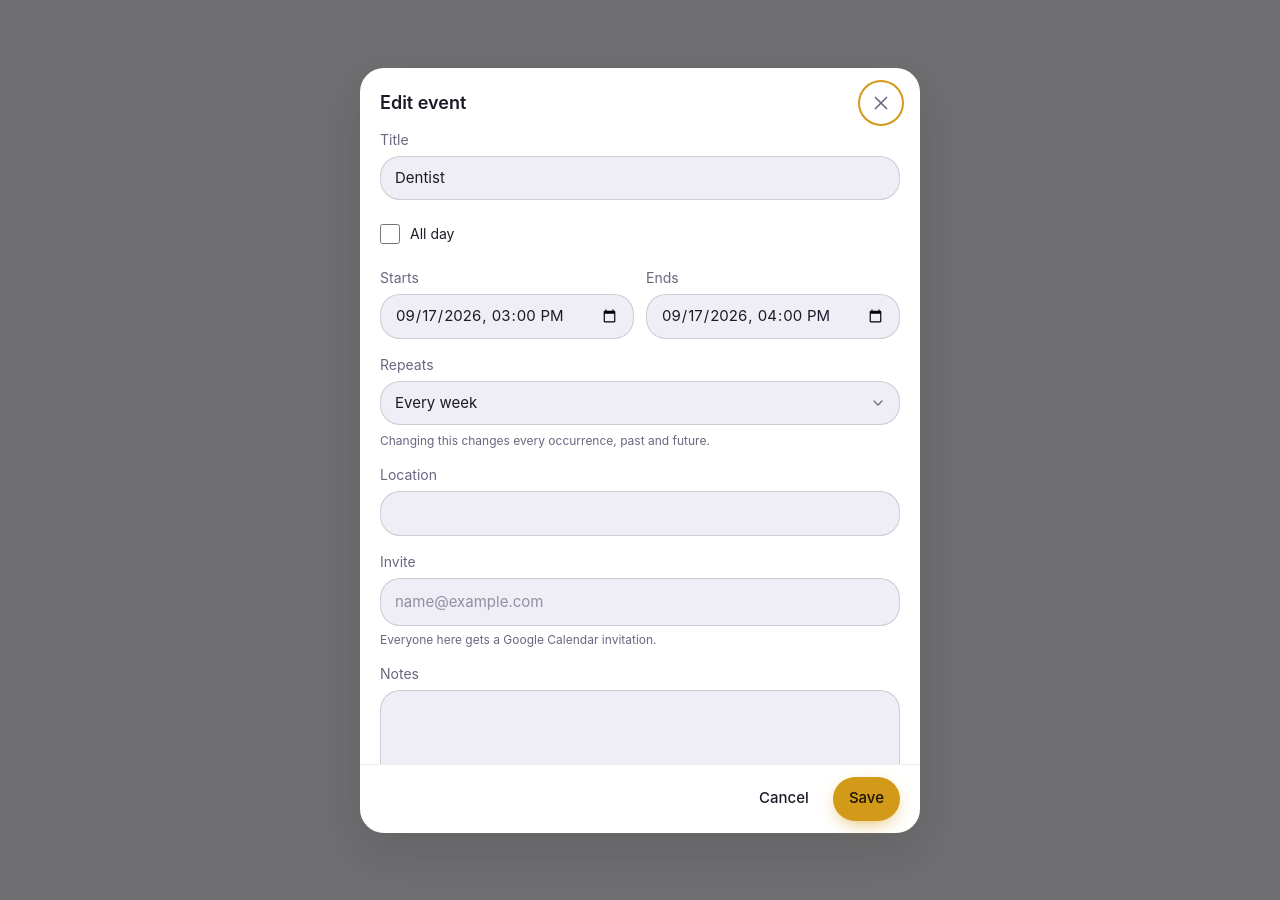
Scenario: a repeating event › goes back to the form without saving
Click the button "Save" at (866, 798), box [833, 776, 900, 820]
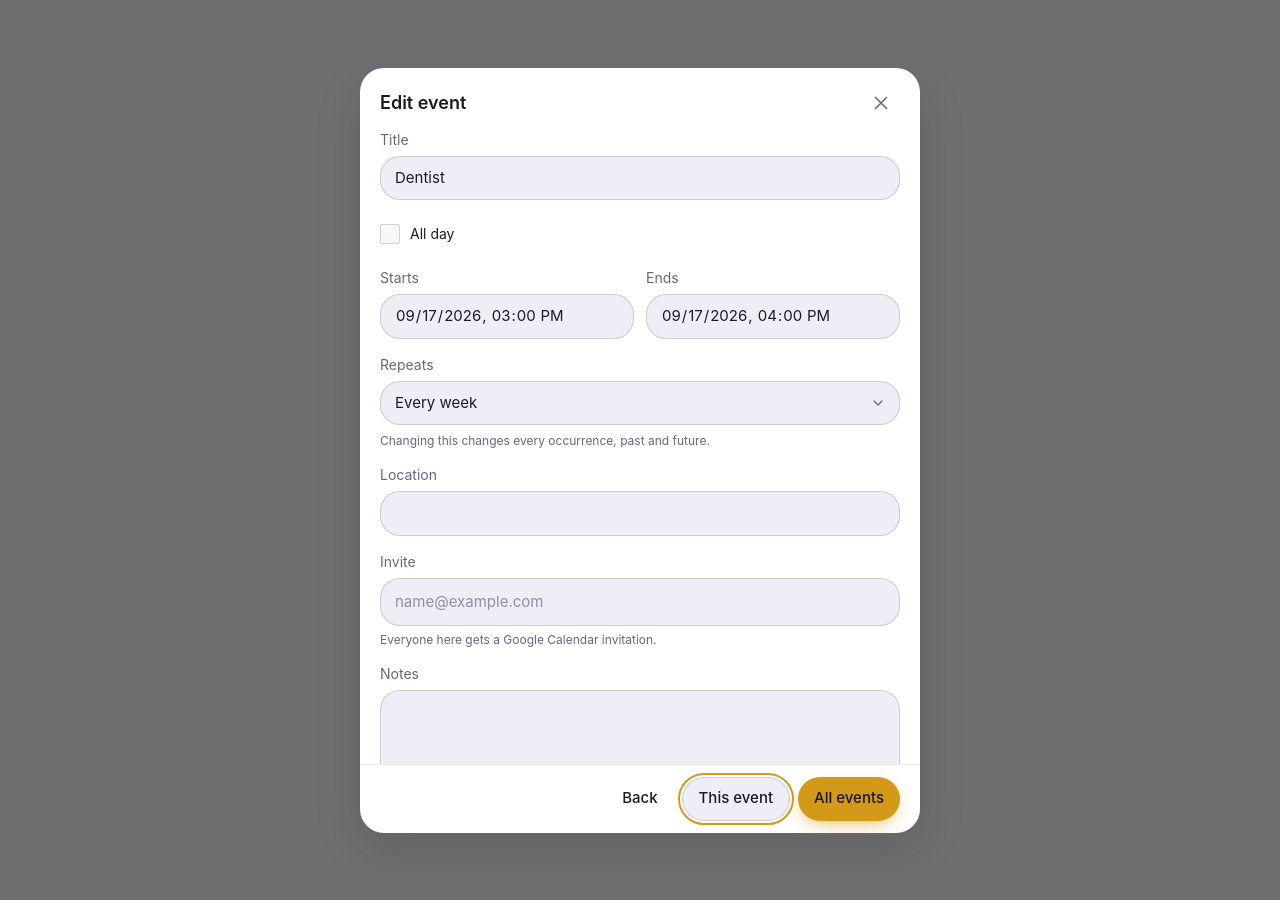
Click the button "Back" at (640, 798), box [606, 776, 674, 820]
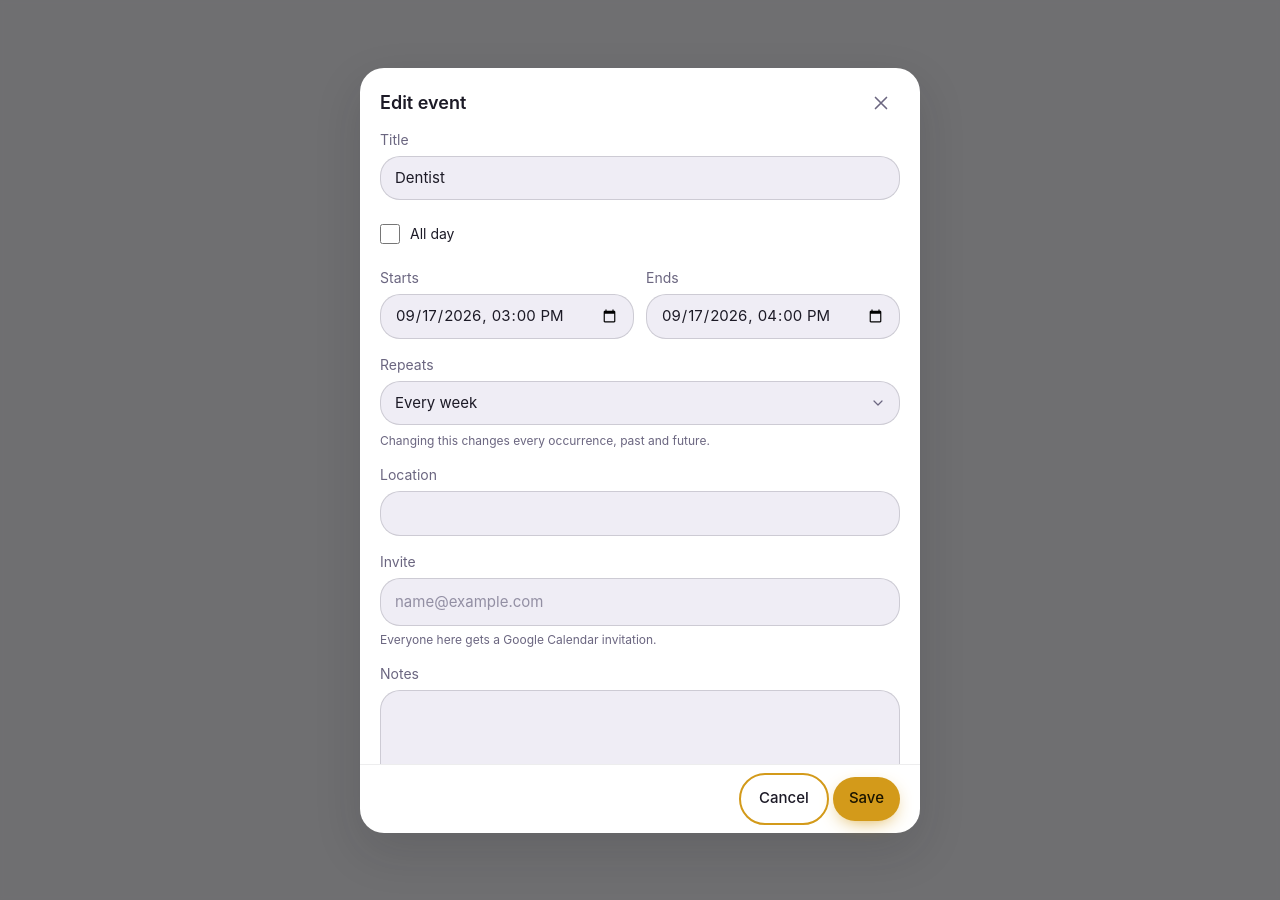
Check: the button "Save" is shown, box [833, 776, 900, 820]
